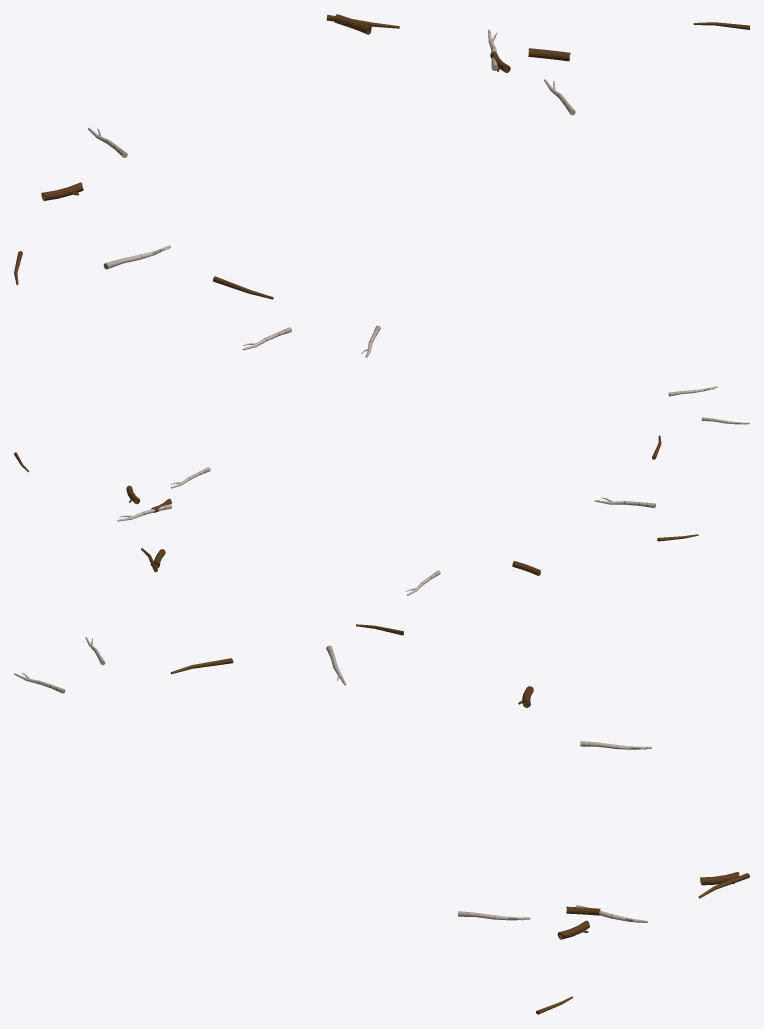
File: Branches3.gltf
3 renders of one model, top to bottom at view 1: azimuth 30°, elevation 25°; view 2: azimuth 150°, elevation 25°; view 3: azimuth 270°, elevation 25°, orthographic. The views are drawn at different scales.
Bounding box in the file's own units: 36.42 × 2.1 × 30.58.
Materials: 3 (3 with a texture image).
